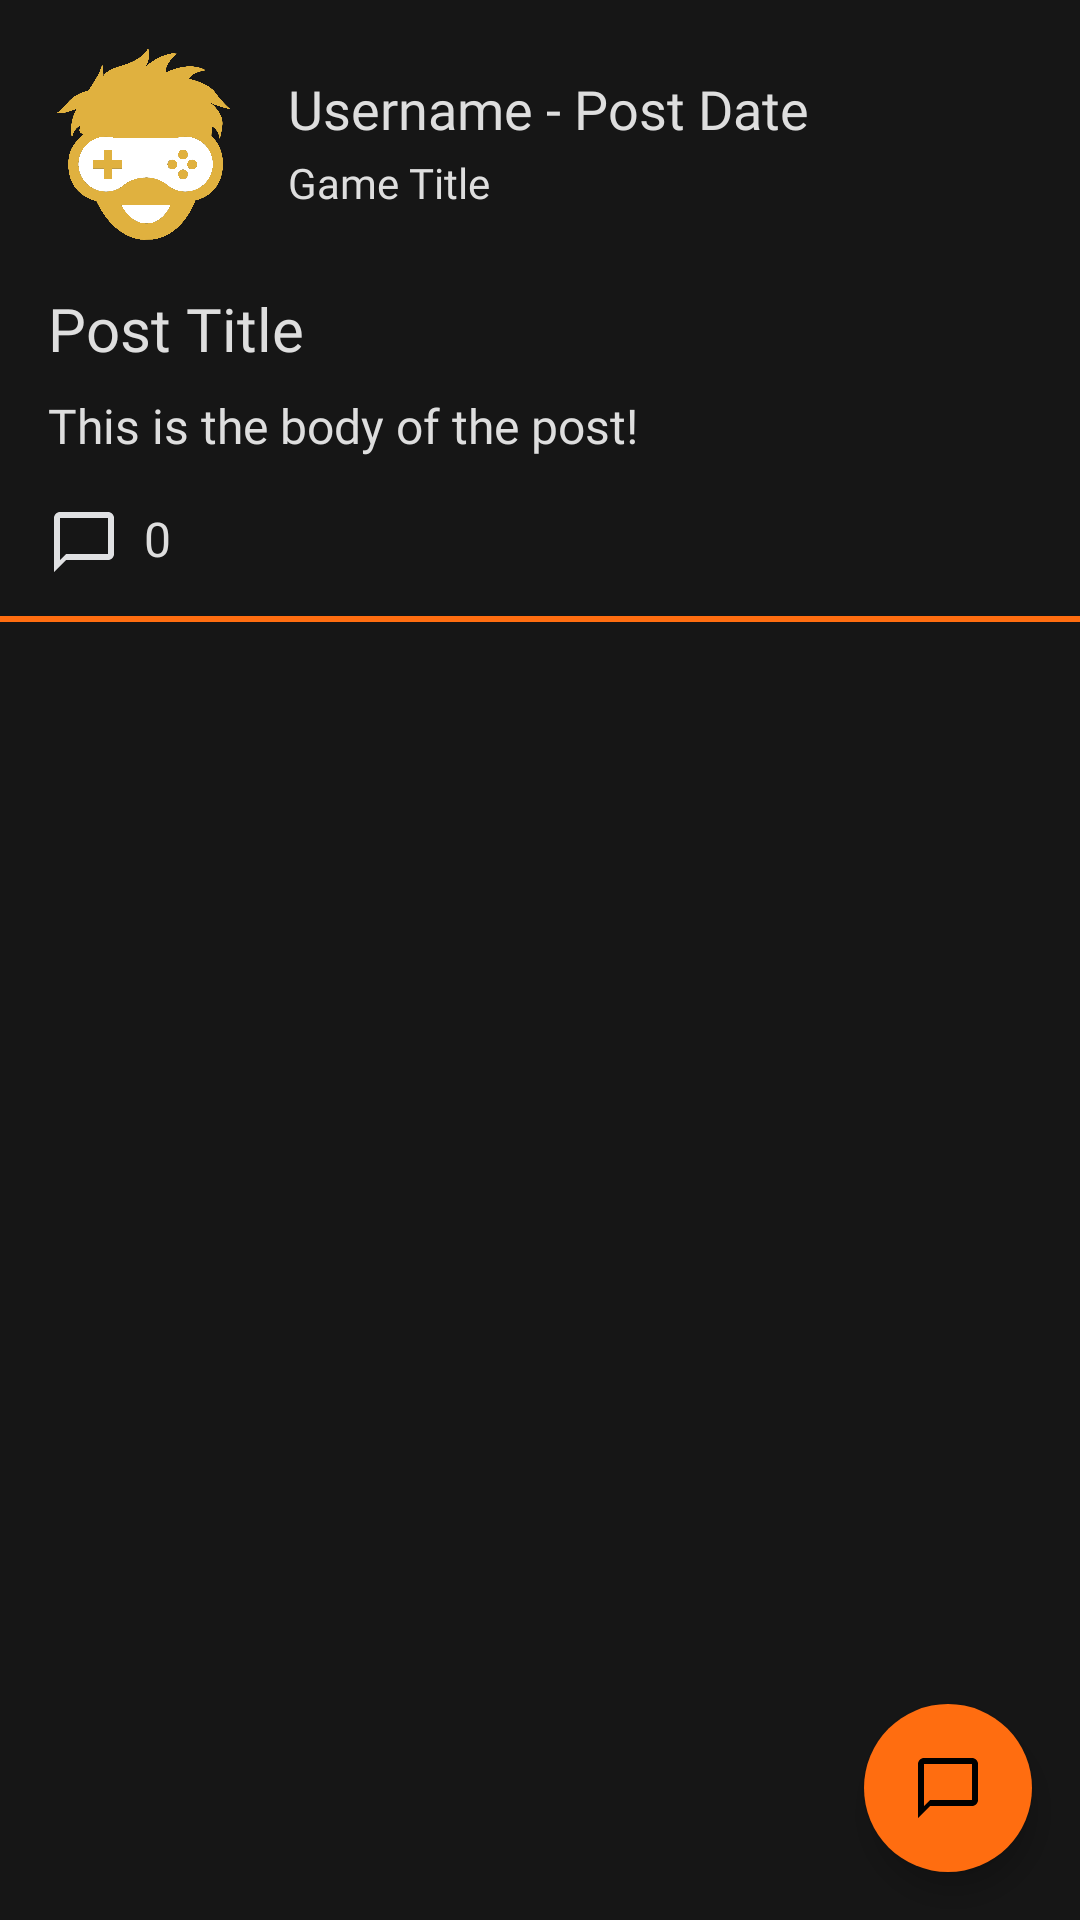

Locate icon controls on the screen. Image size 1080px x 1920px, boxes as [x1,y1,x2,y2].
comment: [54,512,114,572], [864,1704,1032,1872]
